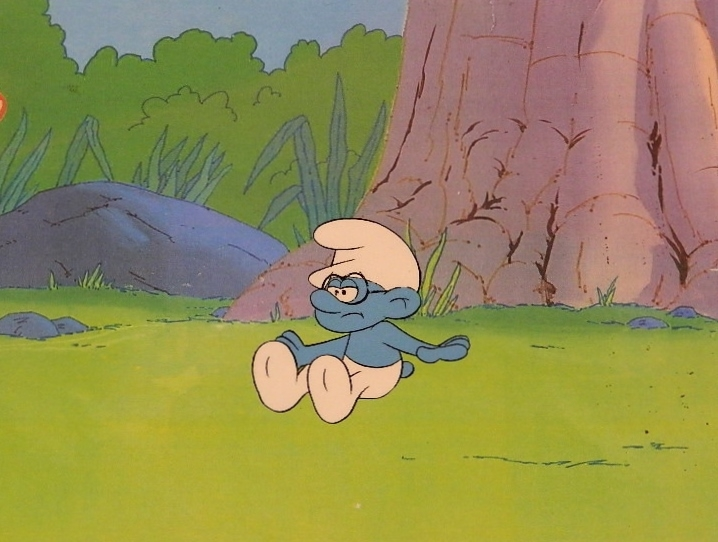smurf: (248, 217, 471, 424)
